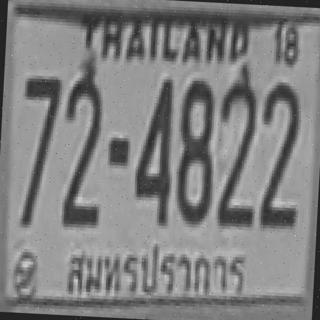N02: (258, 83, 302, 228), (59, 85, 103, 227), (256, 80, 300, 219), (214, 76, 258, 215), (214, 87, 258, 226), (61, 74, 102, 213), (257, 80, 300, 207)
N04: (131, 75, 175, 223)
N07: (16, 74, 61, 222), (17, 75, 60, 202), (19, 74, 61, 167)
N08: (174, 77, 216, 222)
P57: (64, 230, 256, 312)
